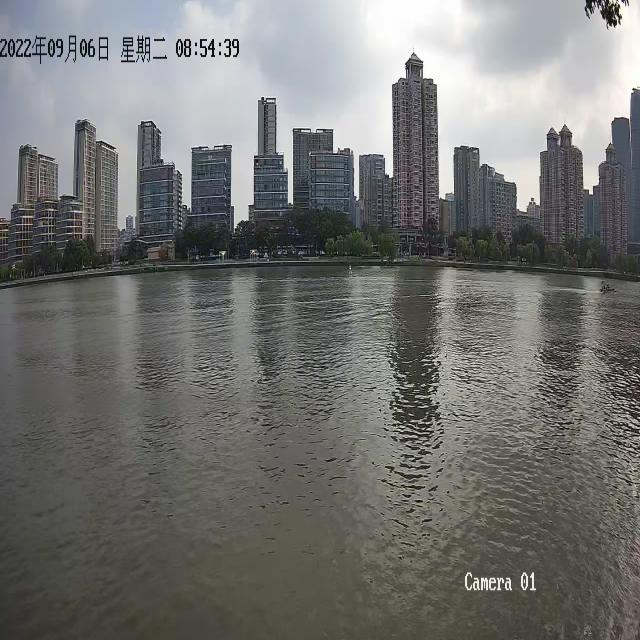ship: (600, 278, 616, 290)
